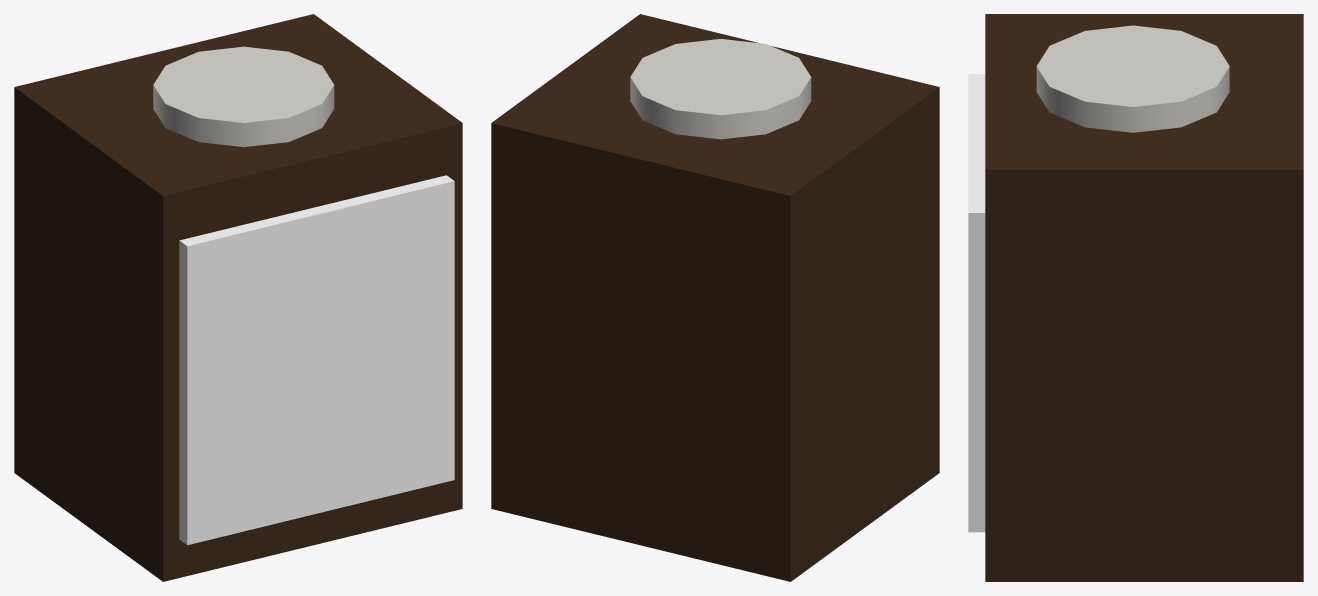
File: laundrycabinet-lite.glb
3 renders of one model, left to right at view 1: azimuth 30°, elevation 25°; view 2: azimuth 150°, elevation 25°; view 3: azimuth 270°, elevation 25°, orthographic. The views are drawn at different scales.
Parts seen in each view (by area): view 1: material-0-body, material-1-door, material-3-top; view 2: material-0-body, material-3-top; view 3: material-0-body, material-3-top, material-1-door.
Boxes of the visible parts, x1,y1,x2,y2 form: material-0-body: [14, 14, 462, 581]; material-1-door: [179, 175, 454, 545]; material-3-top: [153, 46, 334, 147]; material-0-body: [491, 14, 939, 581]; material-3-top: [630, 39, 811, 139]; material-0-body: [985, 14, 1303, 581]; material-3-top: [1036, 25, 1229, 132]; material-1-door: [968, 74, 985, 532].
Size of the model in its own units: 0.65 by 0.85 by 0.59.
